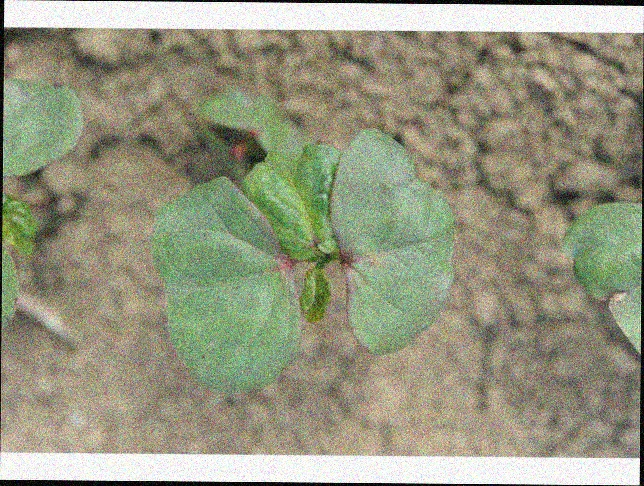cotton: (149, 120, 459, 398)
